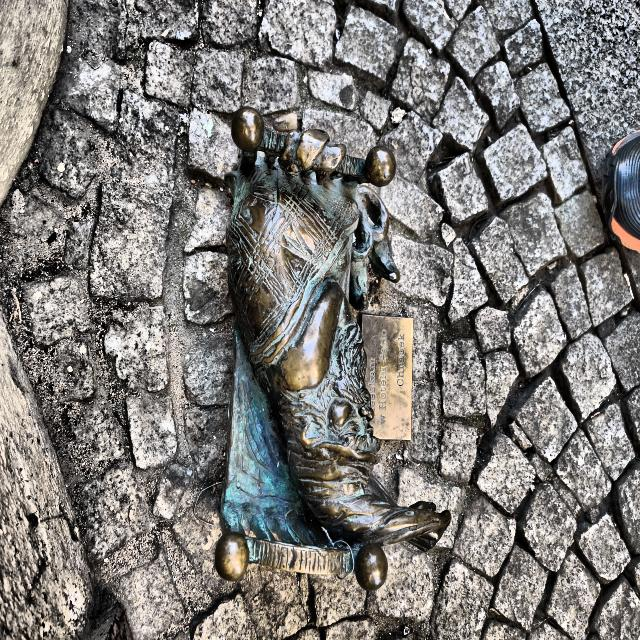Chrapek: (215, 107, 450, 590)
